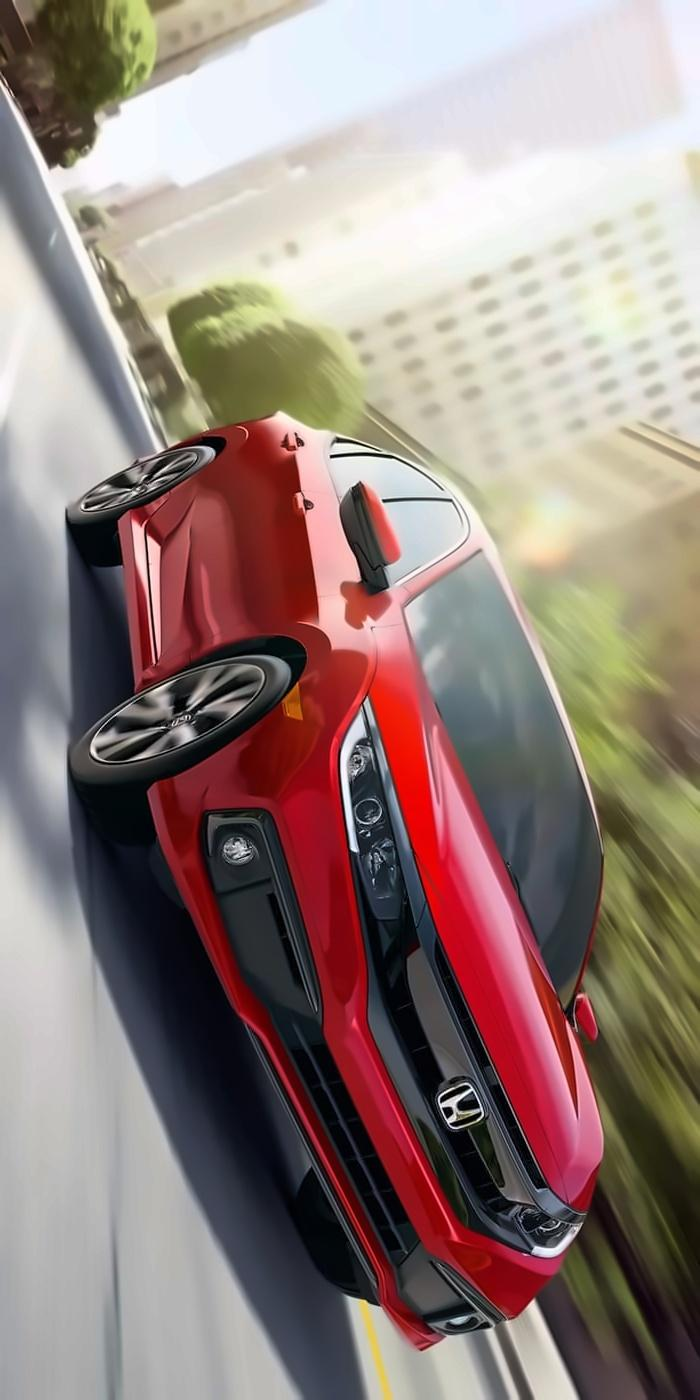Car hood: (368, 620, 628, 1199)
Driver-s door - -F-R-: (43, 493, 485, 708)
Fender - -F-R-: (68, 583, 472, 757)
Front bumper: (130, 713, 572, 1368)
Headlight - -L-: (503, 1180, 585, 1268)
Headlight - -R-: (325, 690, 416, 921)
Passenger-s door - -R-R-: (52, 418, 453, 582)
Side bumper - -R-: (88, 485, 203, 699)
Side mirror - -R-: (333, 468, 408, 624)
